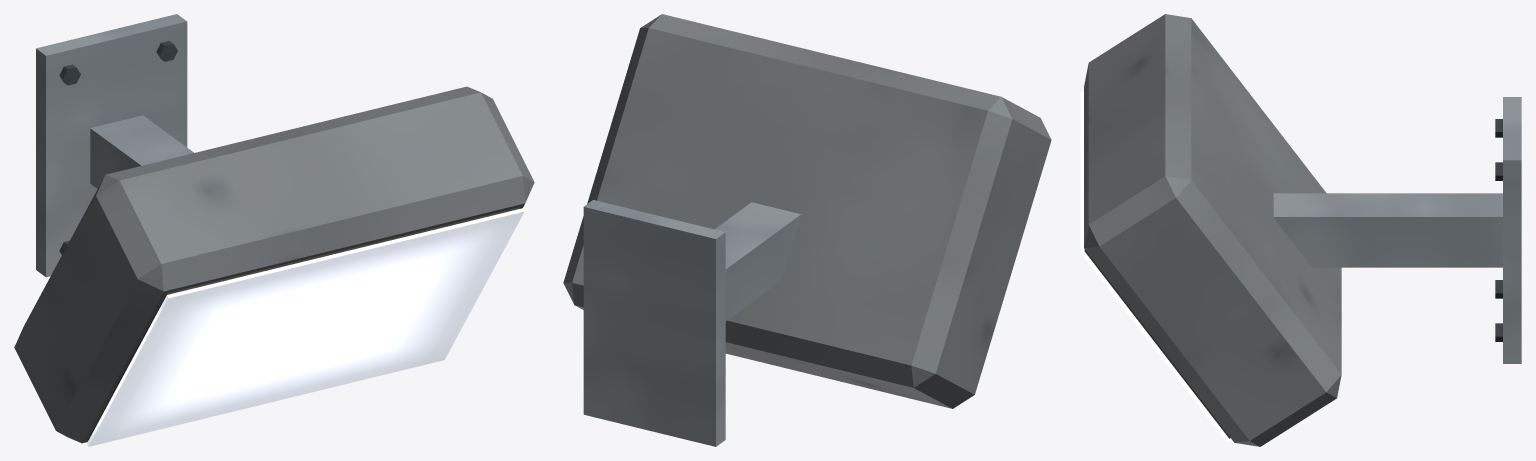
File: floodlight_wall_prison.fbx
3 views of the same model, side by side, from view 1: azimuth 30°, elevation 25°; view 2: azimuth 150°, elevation 25°; view 3: azimuth 270°, elevation 25° (orthographic). The views are drawn at different scales.
Parts seen in each view (by area): view 1: floodlight_wall_prison, floodlight_wall_prison_lens; view 2: floodlight_wall_prison; view 3: floodlight_wall_prison, floodlight_wall_prison_lens.
Boxes of the visible parts, x1,y1,x2,y2 form: floodlight_wall_prison: [14, 14, 534, 443]; floodlight_wall_prison_lens: [87, 208, 524, 446]; floodlight_wall_prison: [563, 14, 1051, 446]; floodlight_wall_prison: [1084, 14, 1521, 446]; floodlight_wall_prison_lens: [1080, 91, 1230, 442].
Size of the model in its own units: 0.45 by 0.3195 by 0.4717.
1 material, 1 textured.
